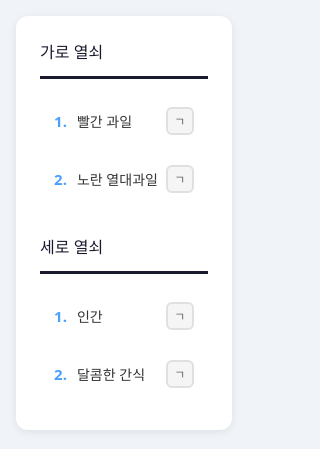
Test: HintPanel › 상호작용 › 세로 초성 버튼 클릭 시 초성이 표시됨
# 세 번째 초성 버튼 클릭 (첫 번째 세로 단어 '사람')
Click the button titled "초성 힌트" next to "인간" at [180, 316], box [166,302,194,330]
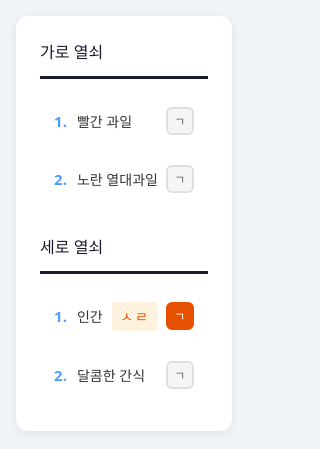
Now the text "ㅅㄹ" is shown, box [112,302,158,330]
